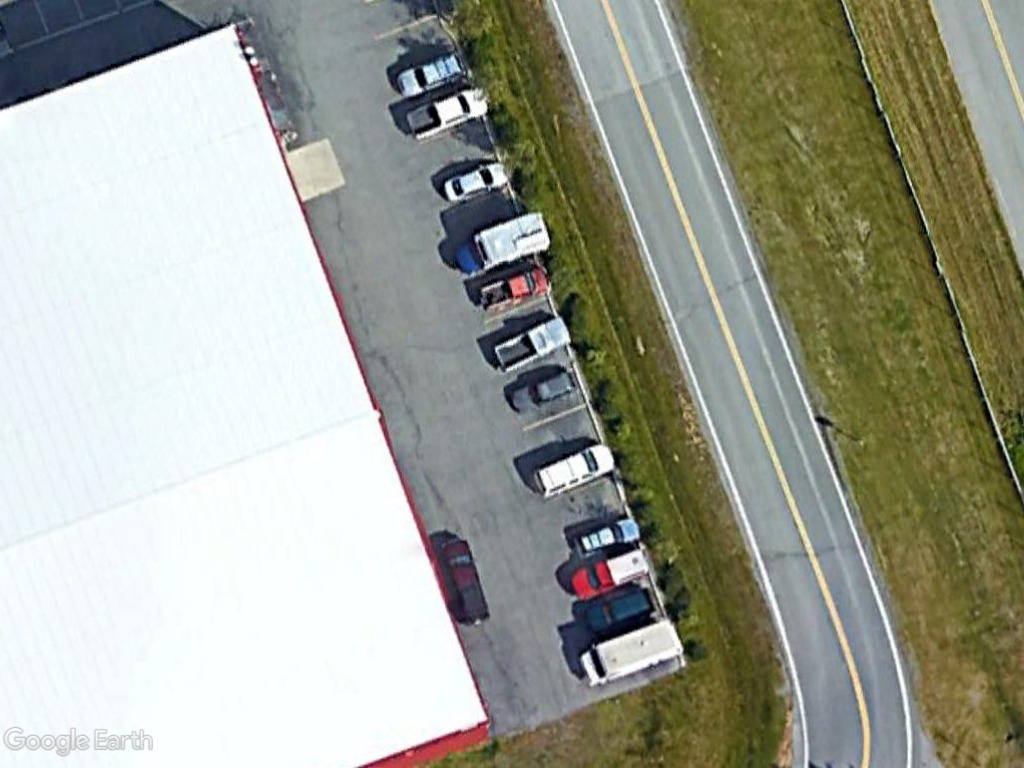car: (583, 579, 660, 637), (567, 508, 645, 563), (438, 157, 516, 209), (392, 49, 472, 99), (504, 367, 582, 418)
other: (401, 81, 490, 141)
truck: (450, 205, 561, 278)
van: (574, 611, 696, 691), (531, 434, 620, 500)
